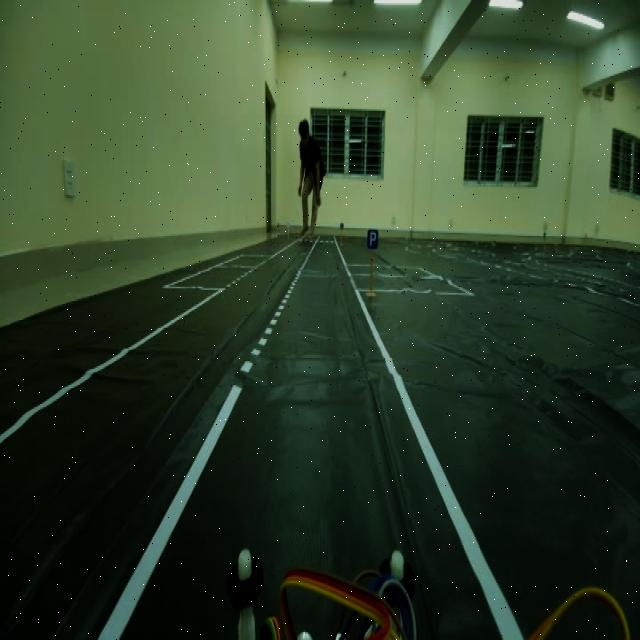parking: (364, 222, 379, 252)
